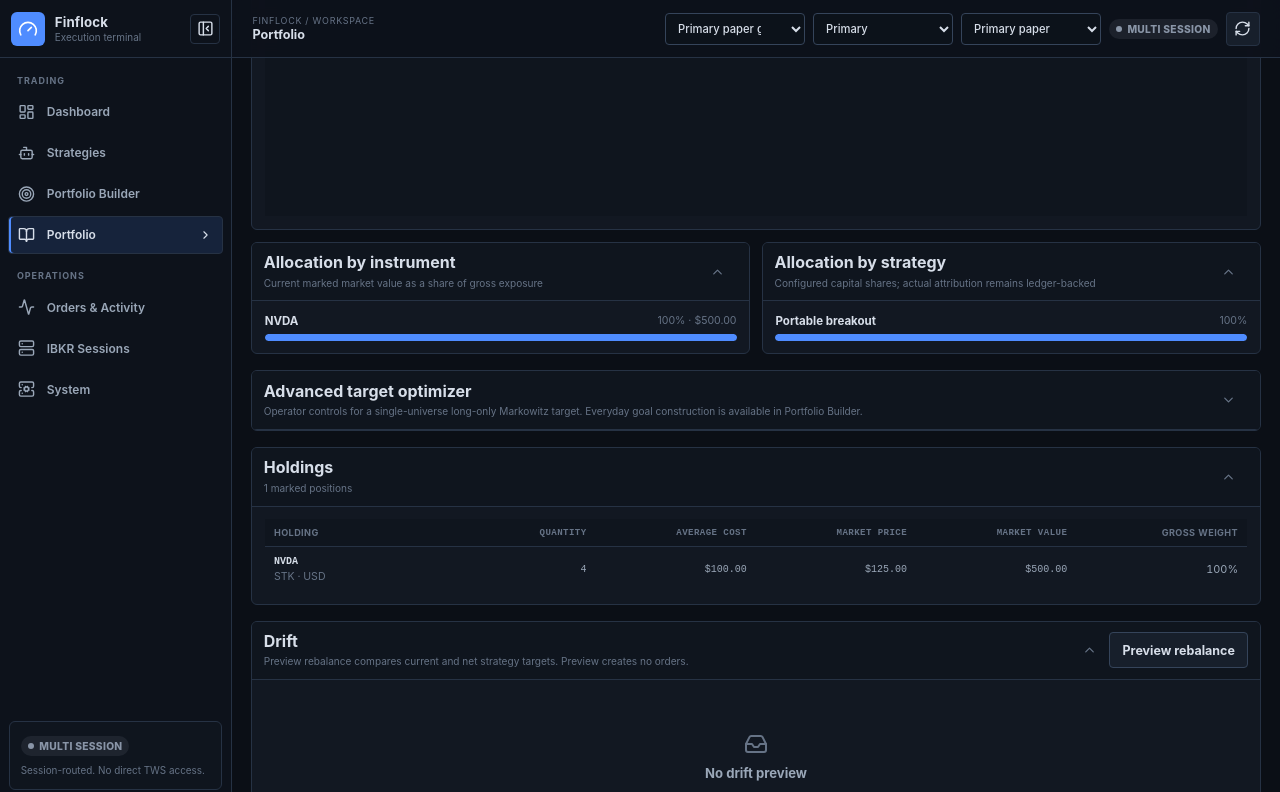
Test: applied optimization disables Apply and shows the applied rebalance
The width and height of the screenshot is (1280, 792).
(page scrolled)
Click the button "Advanced target optimizer" at x=368, y=391, box [264, 381, 1236, 420]
(page scrolled)
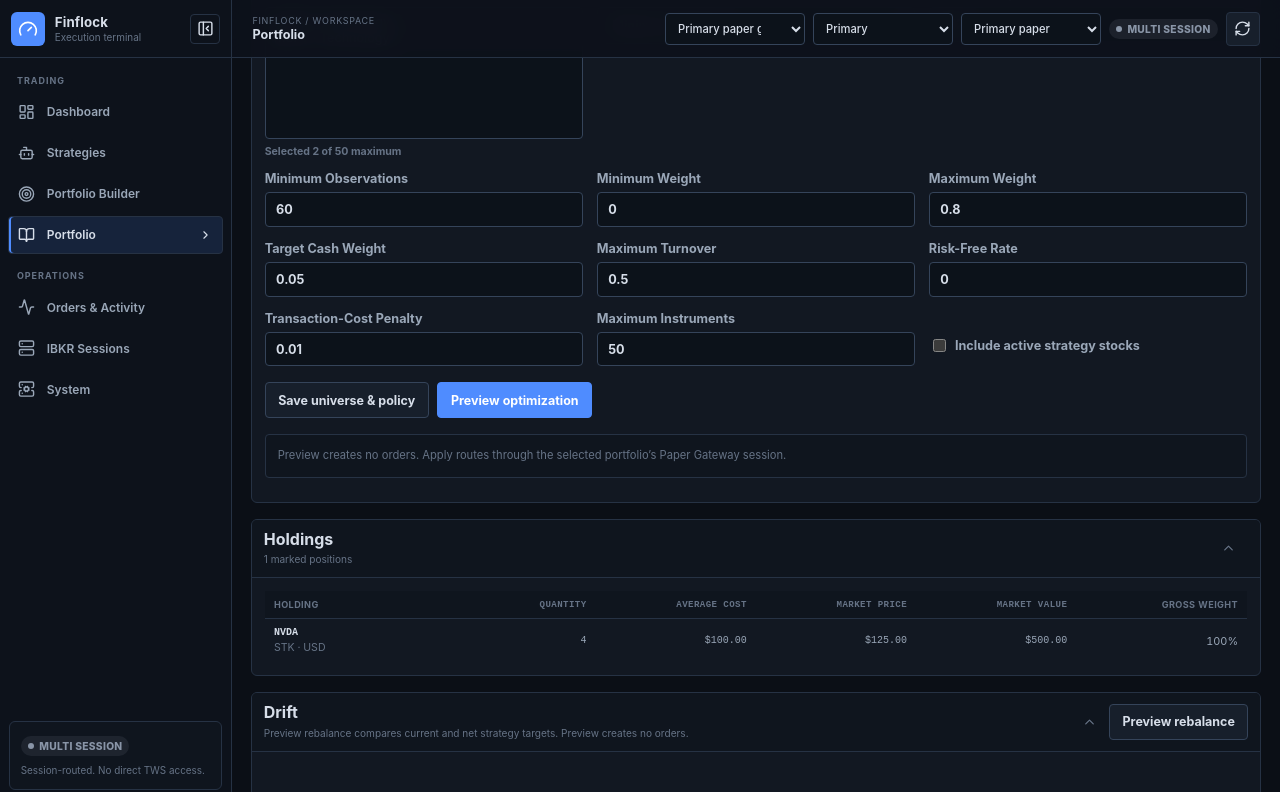
Now the button "Preview optimization" is enabled
Click the button "Preview optimization" at x=515, y=400, box [438, 382, 592, 418]
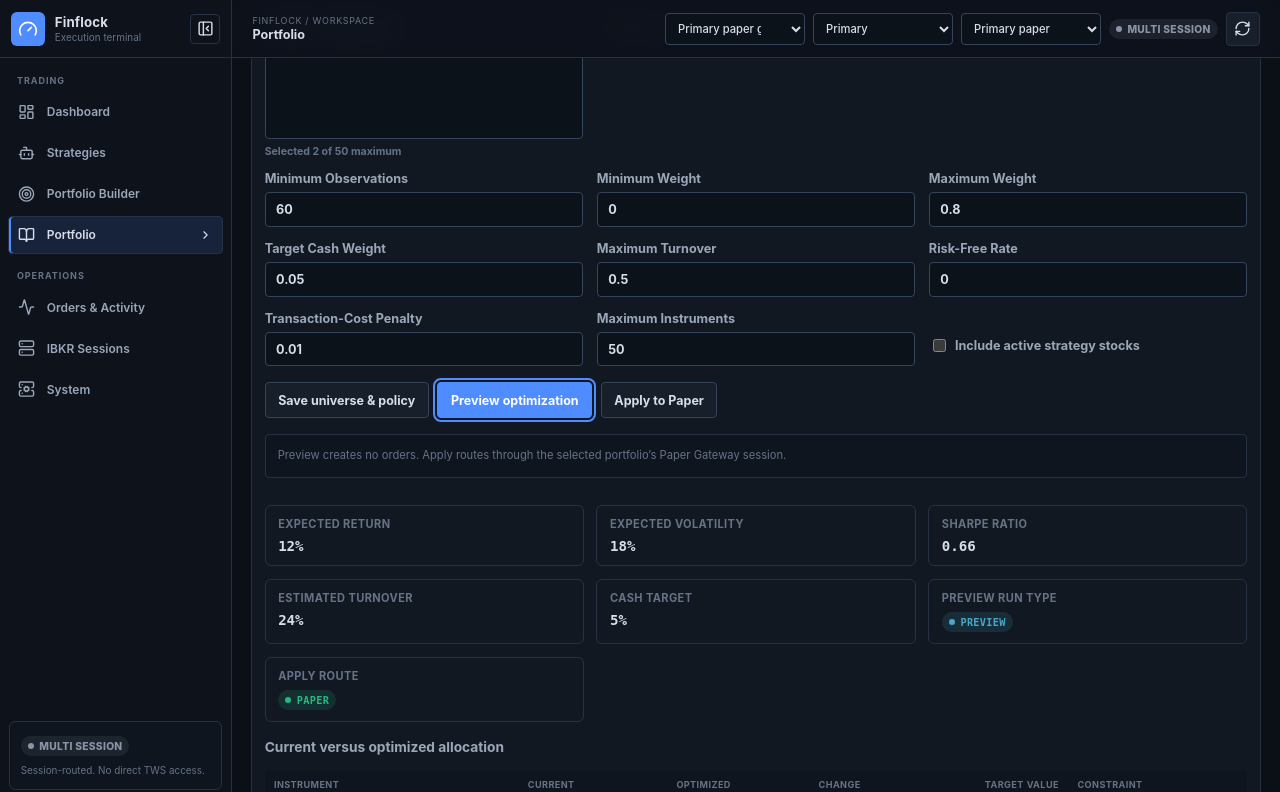
Click the button "Apply to Paper" at x=659, y=400, box [601, 382, 717, 418]
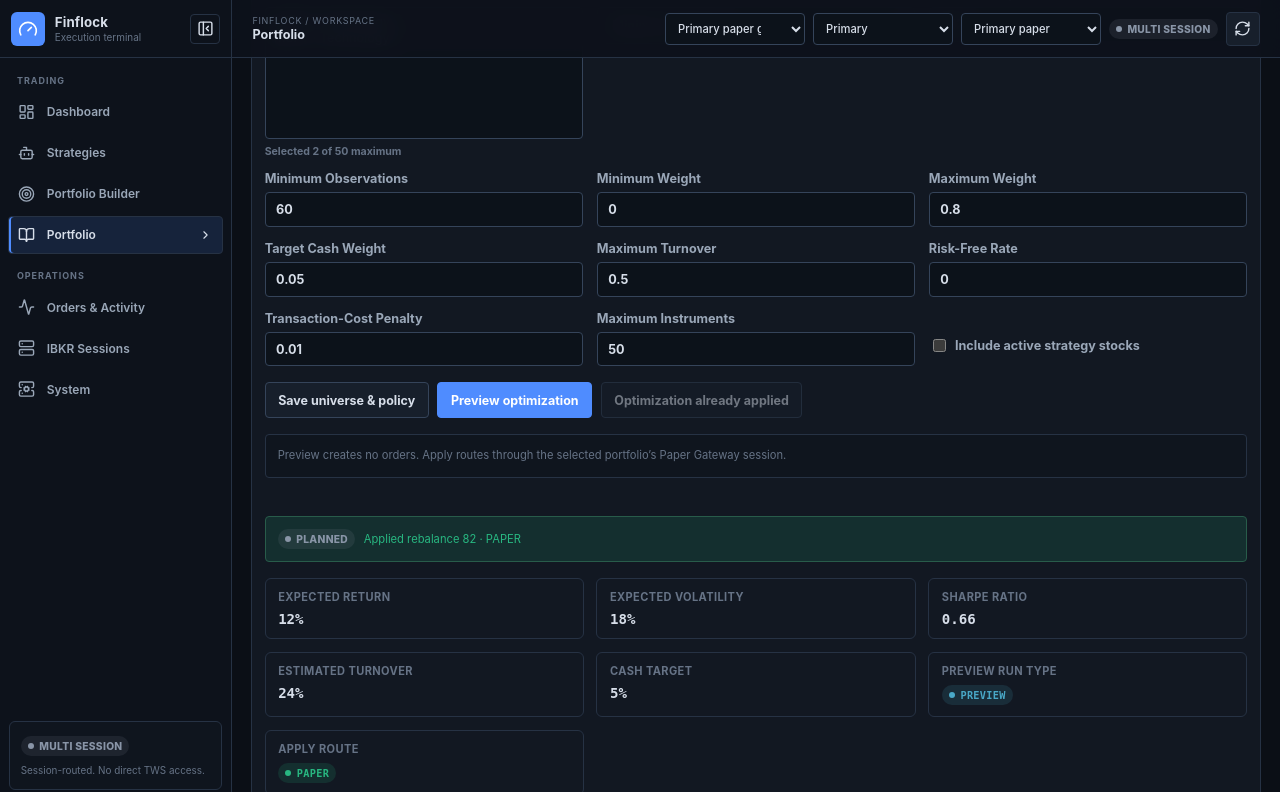
Now the button "Optimization already applied" is disabled, box [601, 382, 802, 418]
Now the text "PLANNED Applied rebalance 82 · PAPER" is shown, box [265, 516, 1247, 562]
